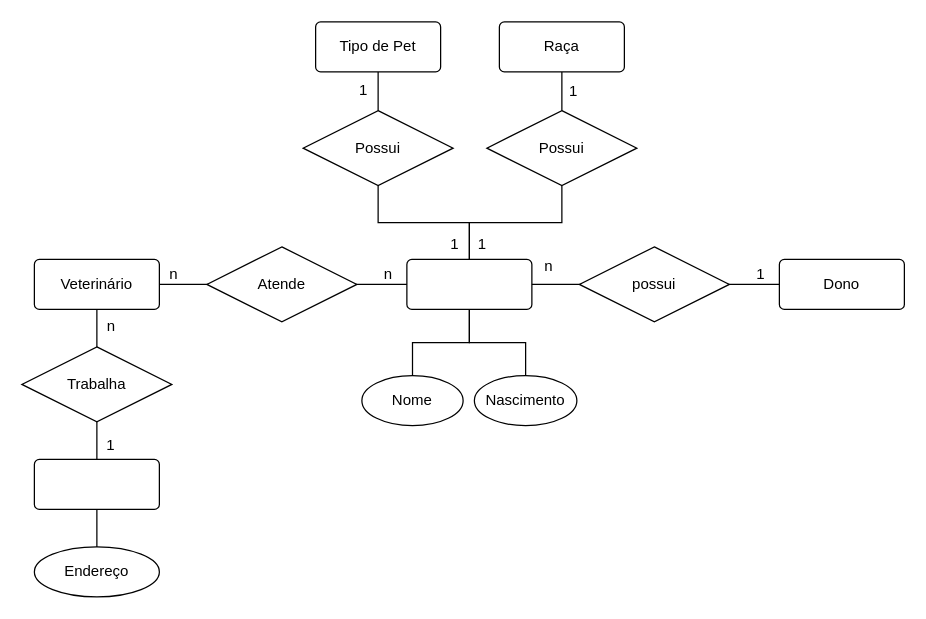
This 926x619 diagram has some shape labels left out. Each missing label, with the centre of its shape:
"Clínica" goes at point 96,483.
"Pet" goes at point 469,283.
